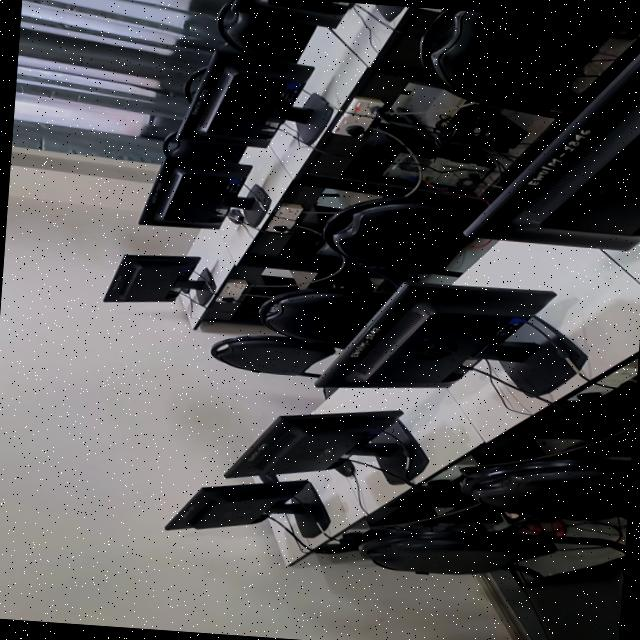Chair: (421, 8, 621, 114), (461, 455, 631, 519), (334, 197, 474, 273), (360, 525, 556, 573), (523, 557, 624, 640), (220, 0, 349, 61), (259, 287, 389, 346), (210, 334, 334, 377), (163, 138, 246, 162)
Cpu: (418, 156, 487, 187), (383, 152, 418, 176)
Monitor: (464, 53, 640, 249), (316, 281, 586, 396), (225, 409, 427, 482), (177, 49, 313, 146), (166, 478, 329, 536), (139, 156, 269, 228), (103, 254, 215, 305), (255, 0, 348, 19)
Mouse: (333, 459, 354, 475), (226, 207, 244, 223), (258, 473, 277, 482)
